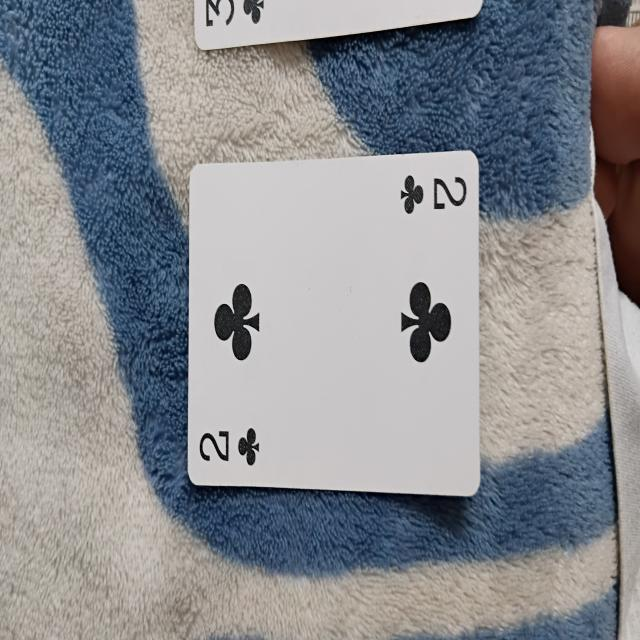2C: (186, 152, 479, 490)
